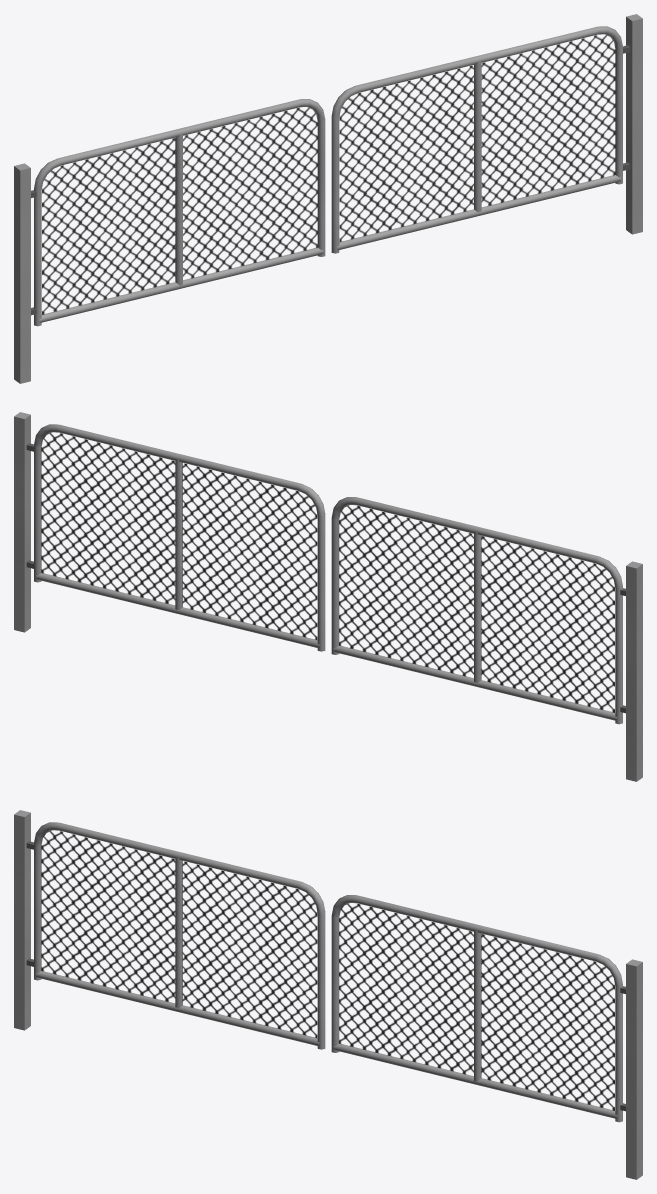
Rendered from fence-chainlink-gateX2-2m-cbj_LOD01.gltf.
The picture shows the model from 3 angles, top to bottom: view 1: azimuth 30°, elevation 25°; view 2: azimuth 150°, elevation 25°; view 3: azimuth 330°, elevation 25°; orthographic projection.
Parts seen in each view (by area): view 1: post01; view 2: post01; view 3: post01.
Boxes of the visible parts, x1,y1,x2,y2 form: post01: [14, 14, 642, 383]; post01: [14, 412, 642, 781]; post01: [14, 810, 642, 1179].
Size of the model in its own units: 4.06 by 1.33 by 0.07.
